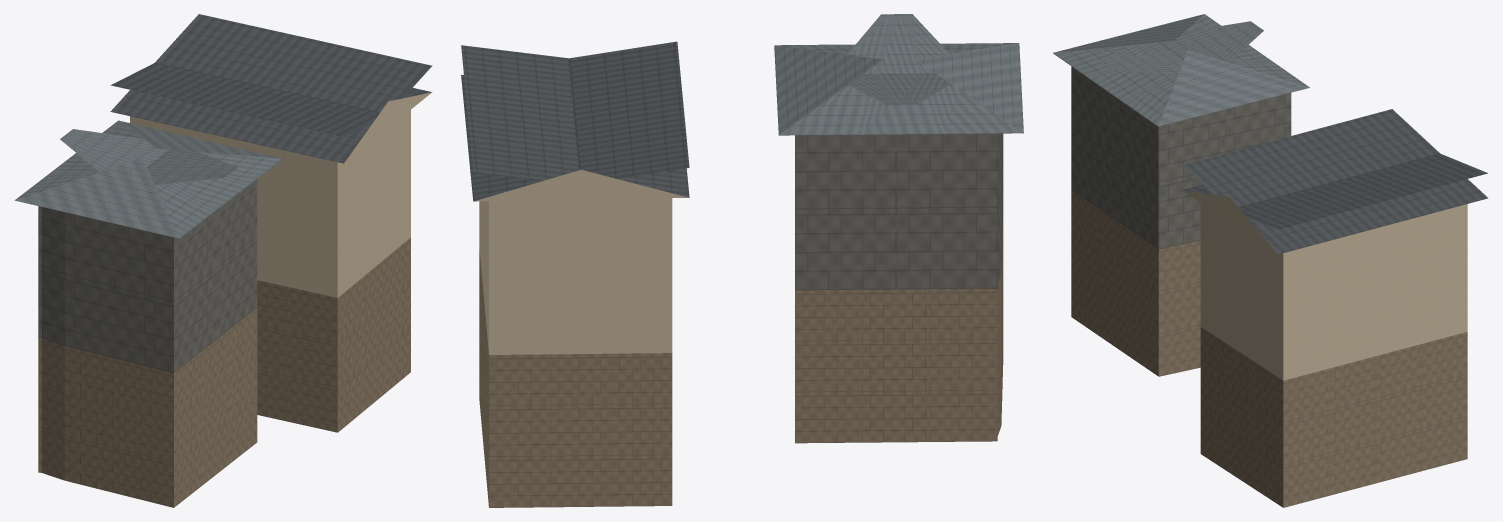
The model's file is bld_c9_11_492.gltf.
3 views of the same model, side by side, from view 1: azimuth 30°, elevation 25°; view 2: azimuth 150°, elevation 25°; view 3: azimuth 270°, elevation 25° (orthographic). The views are drawn at different scales.
Visible parts, largest first — view 1: bld_c9_11_492; view 2: bld_c9_11_492; view 3: bld_c9_11_492.
Boxes of the visible parts, box(x1,y1,x2,y2) form: bld_c9_11_492: box(14, 14, 432, 507); bld_c9_11_492: box(461, 14, 1023, 507); bld_c9_11_492: box(1053, 14, 1488, 507).
Size of the model in its own units: 18.1 by 12.7 by 15.85.
Materials: 6 (6 with a texture image).
